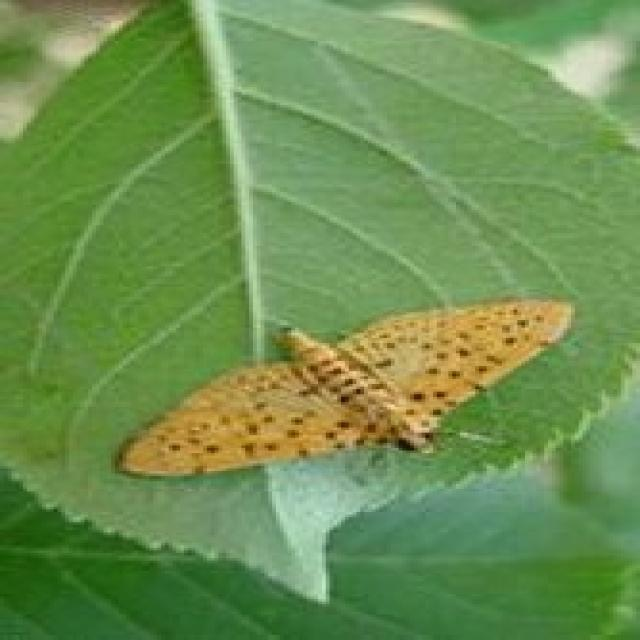peach borer: (109, 294, 584, 502)
